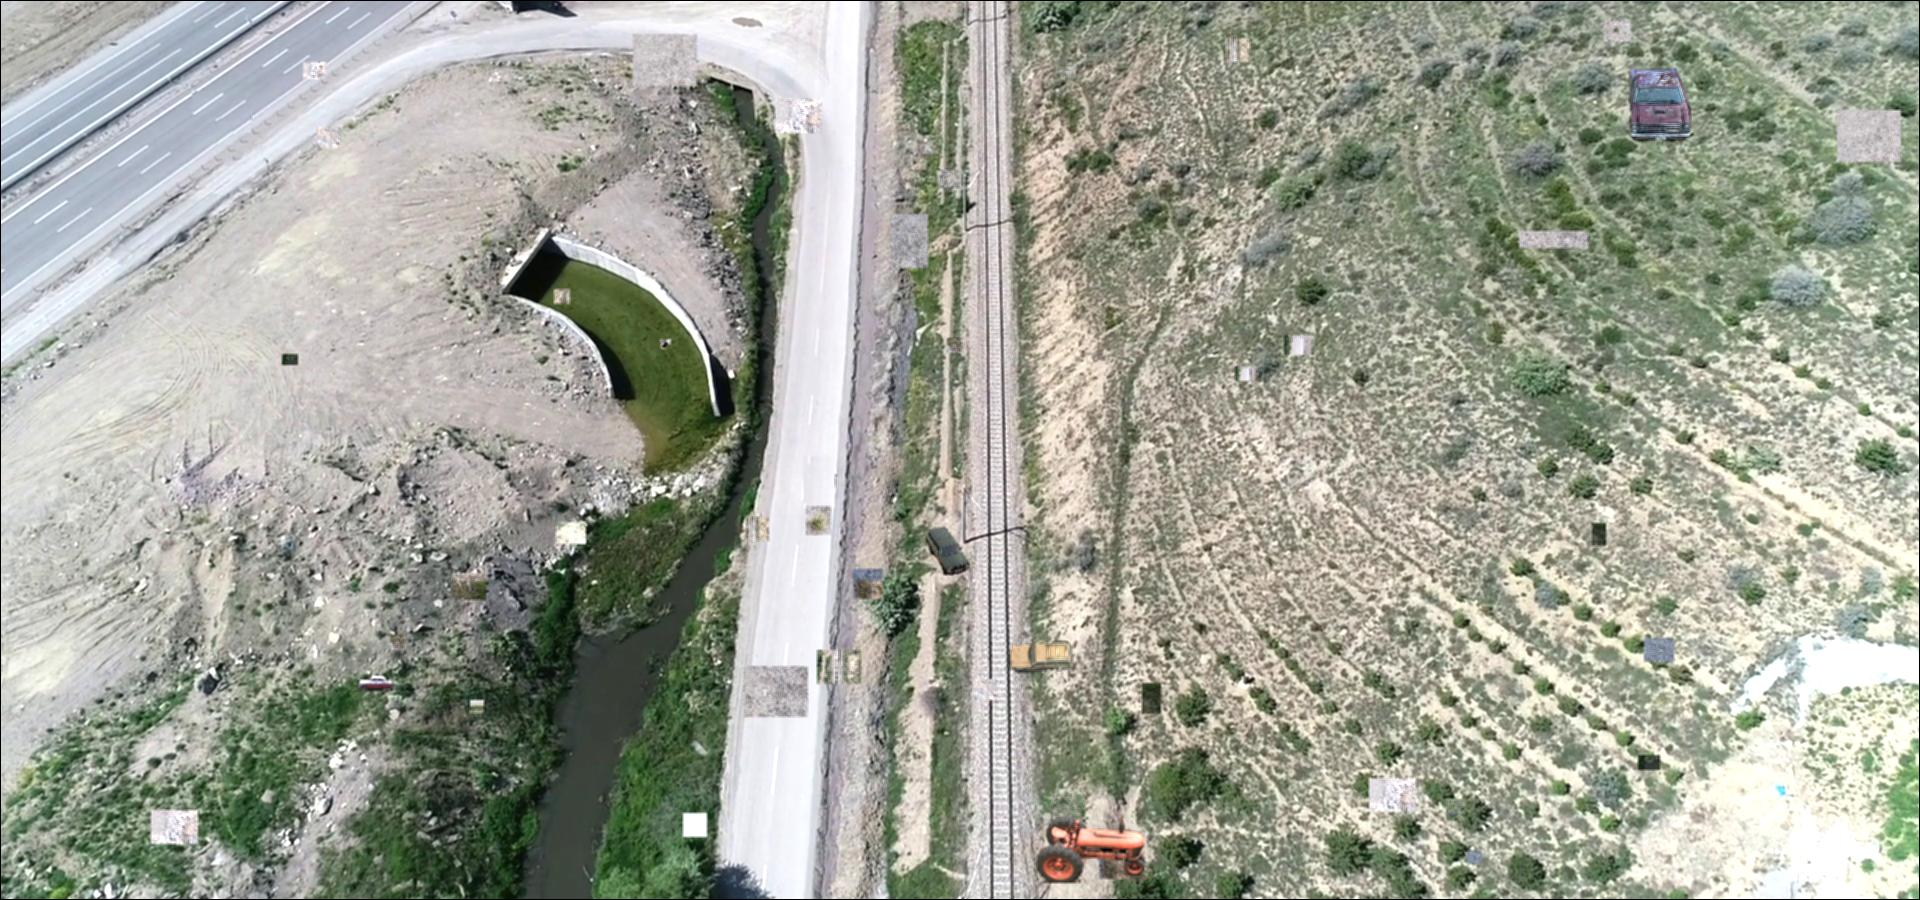arac: (1037, 814, 1153, 883), (1622, 65, 1693, 144), (1009, 639, 1075, 675), (924, 527, 971, 576), (358, 676, 394, 692)
